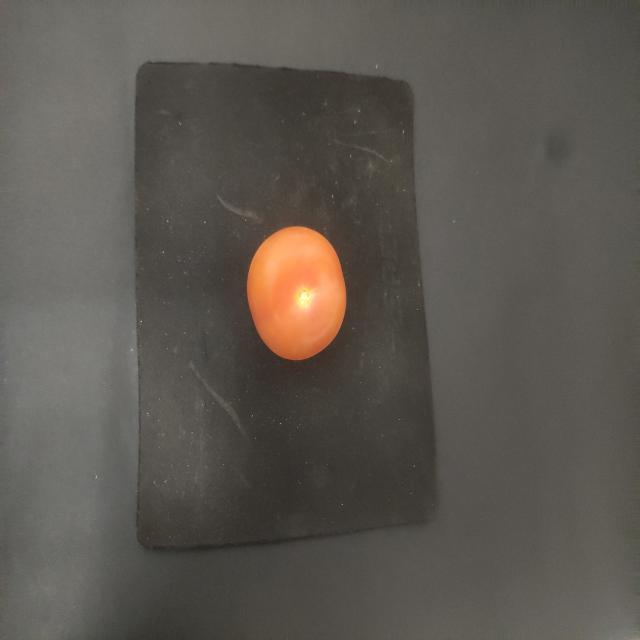sari: (228, 220, 357, 370)
